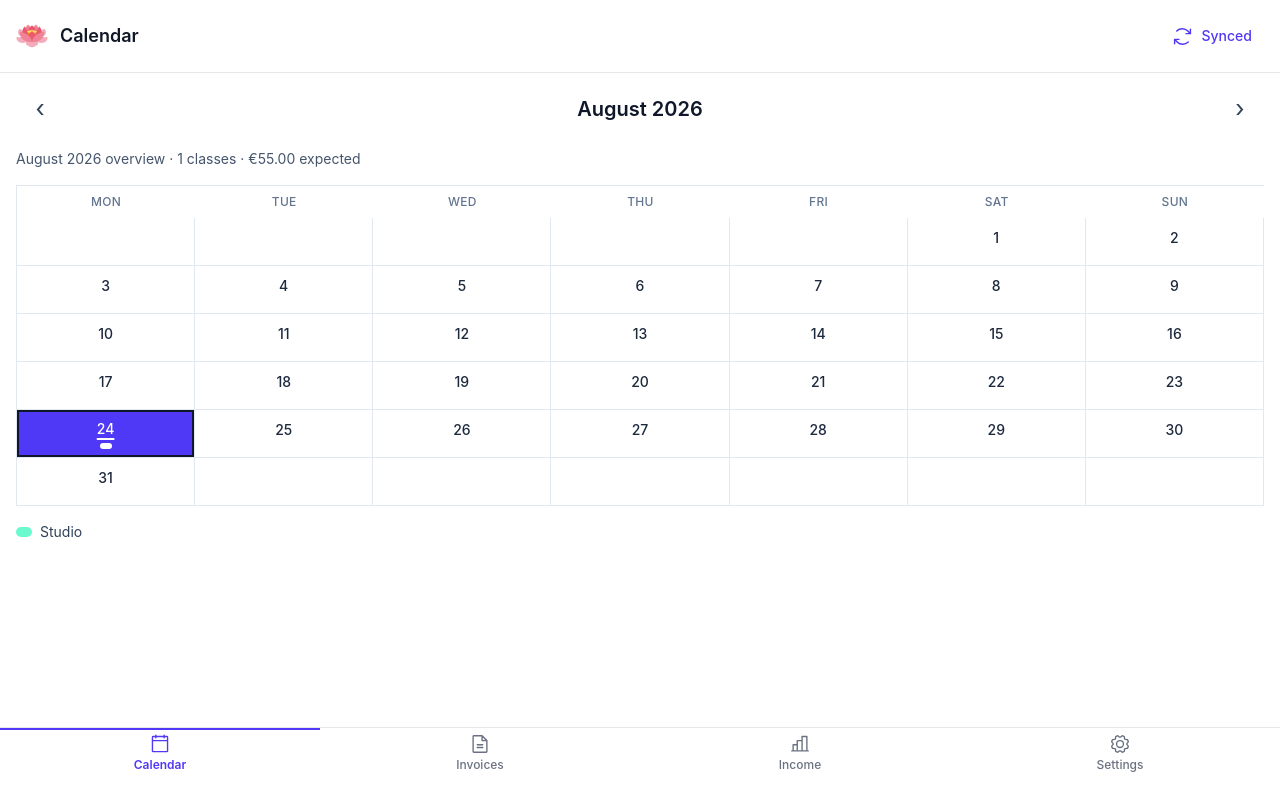
mobile Calendar reset and responsive cleanup › keeps the persistent Calendar destination focusable above details and resets from it
The width and height of the screenshot is (1280, 800).
Click the button "24": (106, 434) x1=17 y1=410 x2=195 y2=458
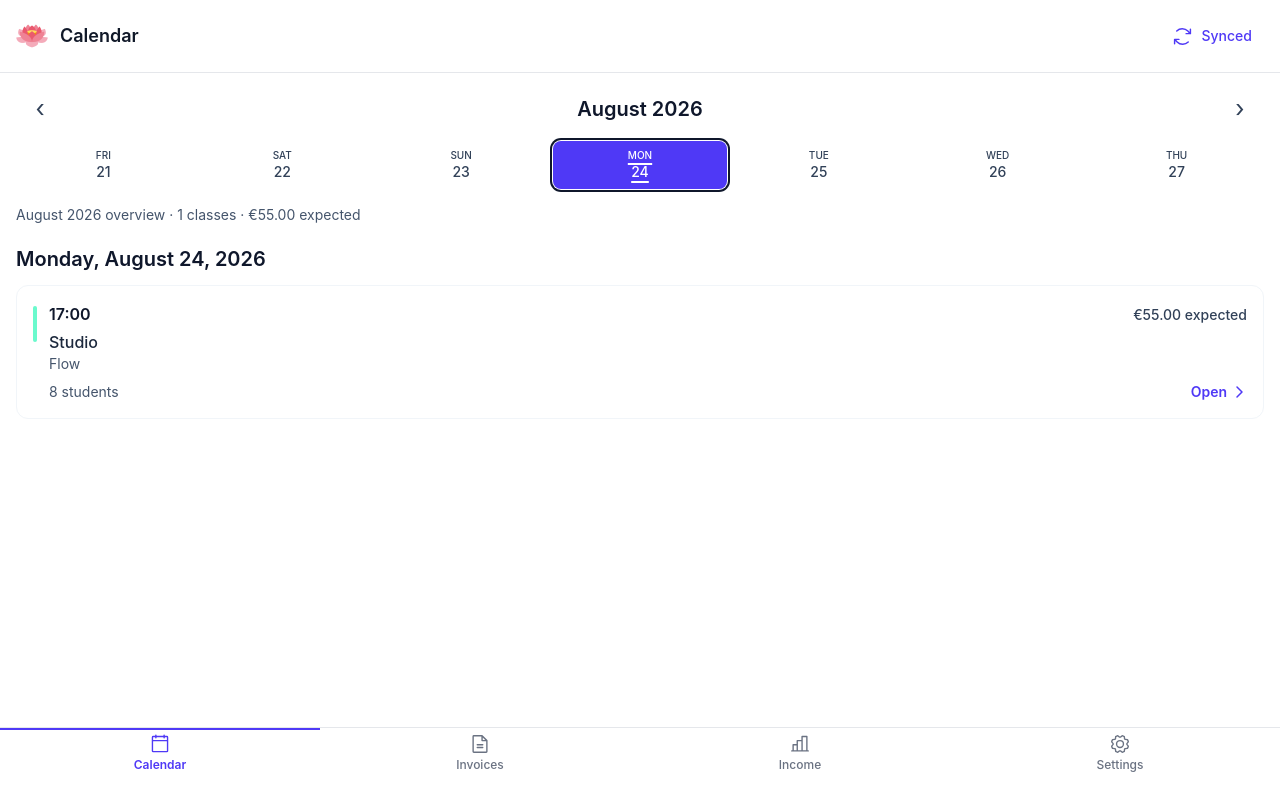
Click the button "17:00 €55.00 expected Studio Flow 8 students Open": (640, 352) x1=17 y1=286 x2=1263 y2=418
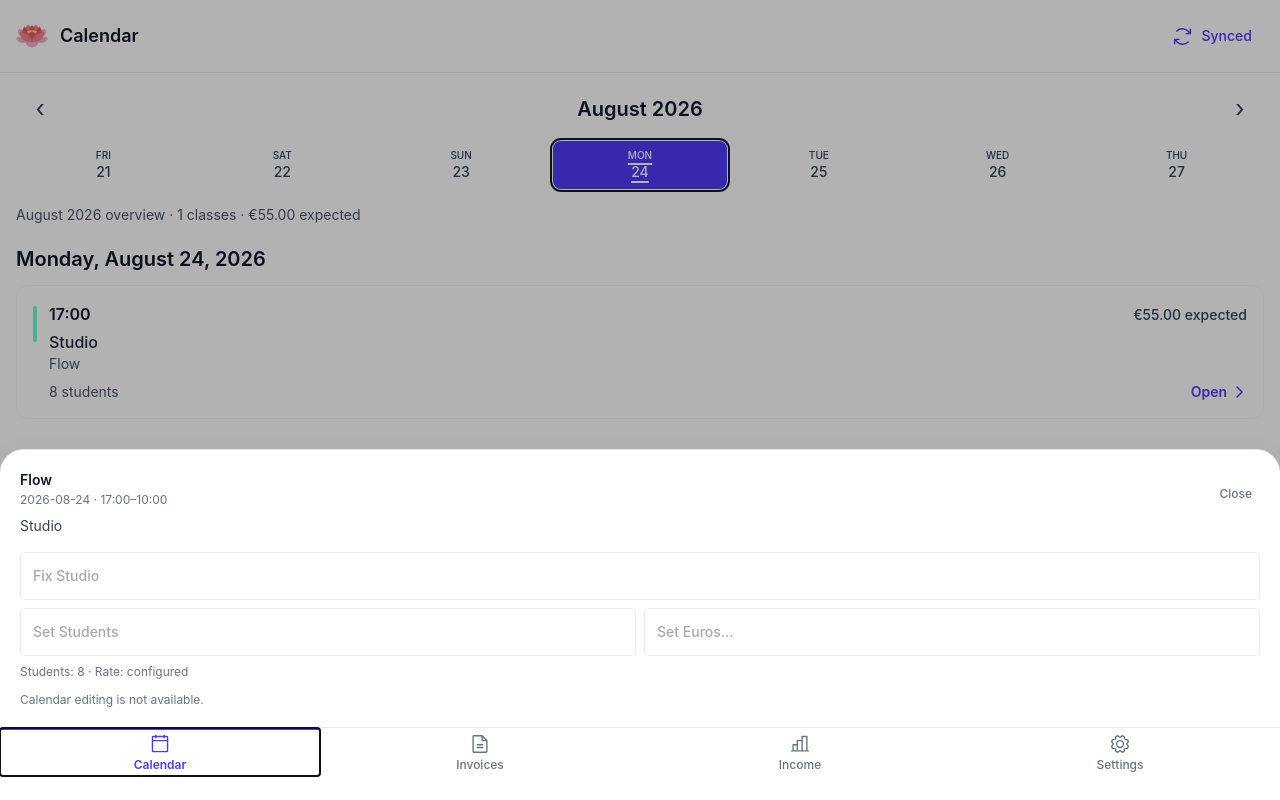
Click the button "Calendar": (160, 752) x1=0 y1=728 x2=320 y2=776
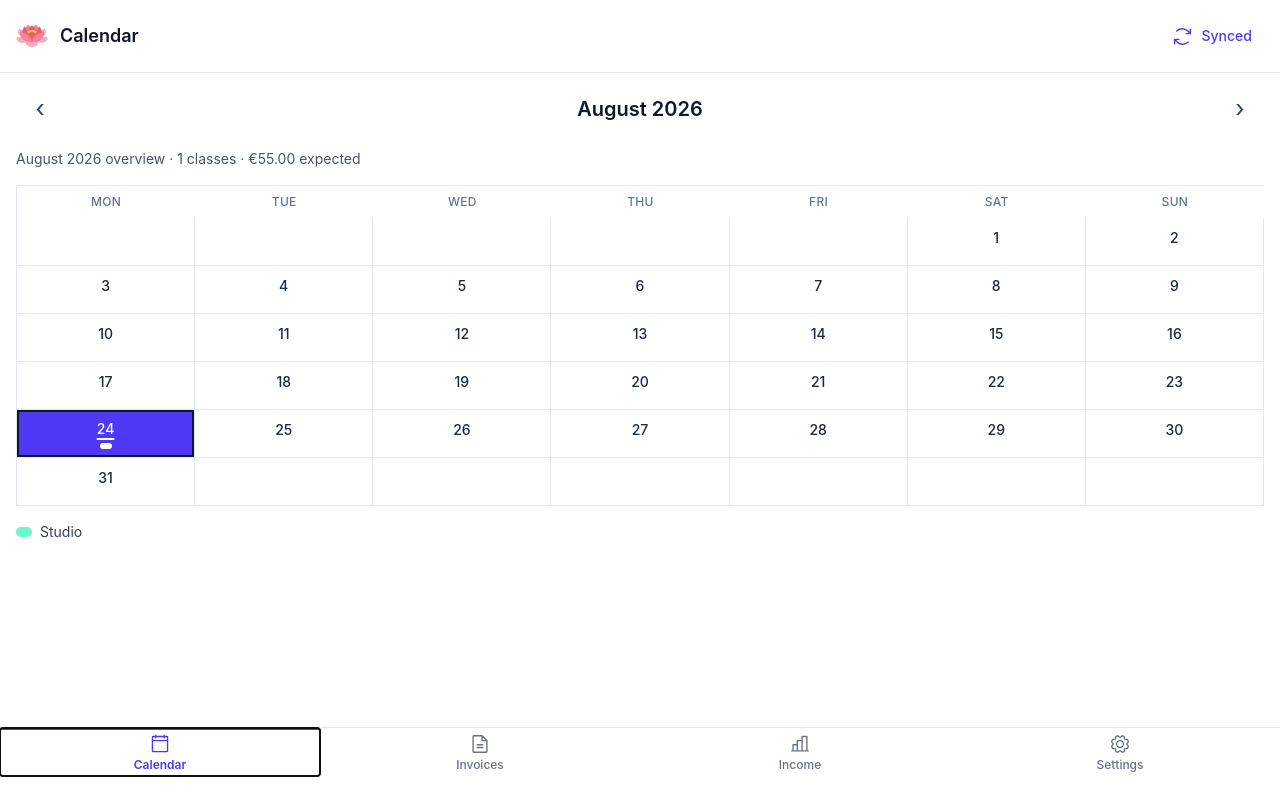
Now the element named "Month calendar" is shown, box x1=16 y1=185 x2=1264 y2=506
